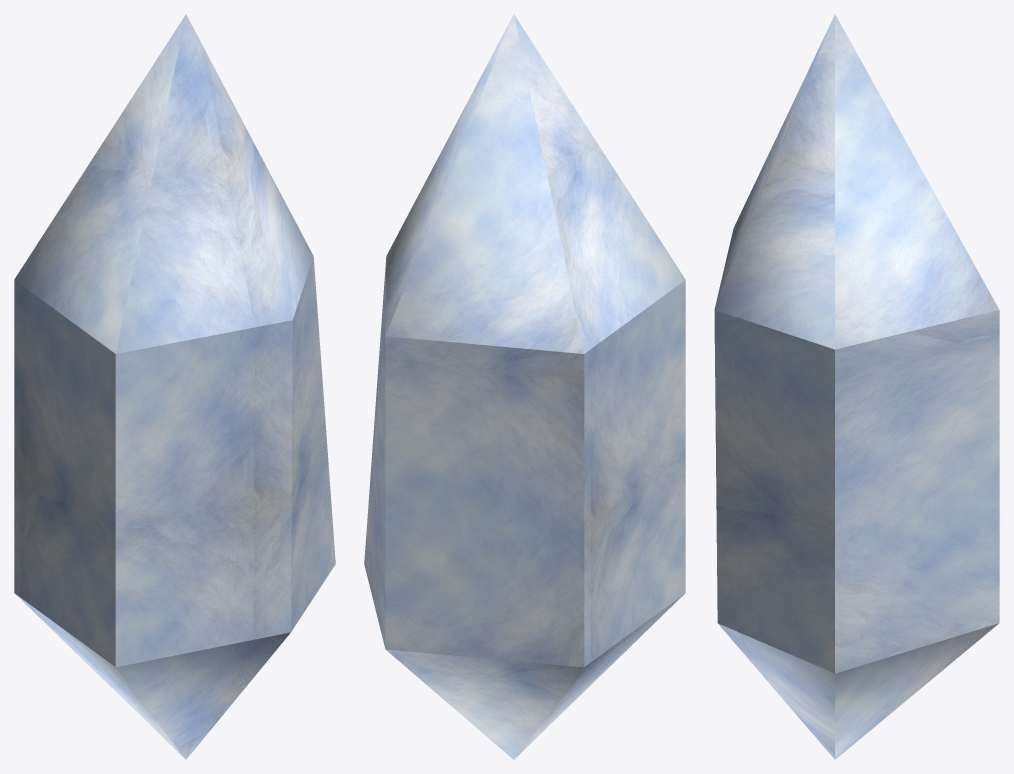
The model's file is crystal3.fbx.
3 renders of one model, left to right at view 1: azimuth 30°, elevation 25°; view 2: azimuth 150°, elevation 25°; view 3: azimuth 270°, elevation 25°, orthographic.
Visible parts, largest first — view 1: pCylinder1; view 2: pCylinder1; view 3: pCylinder1.
Part boxes in pixels (bbox=[...]): pCylinder1: bbox=[14, 14, 335, 759]; pCylinder1: bbox=[364, 14, 685, 759]; pCylinder1: bbox=[714, 14, 999, 759].
Size of the model in its own units: 1.81 by 4.76 by 1.65.
